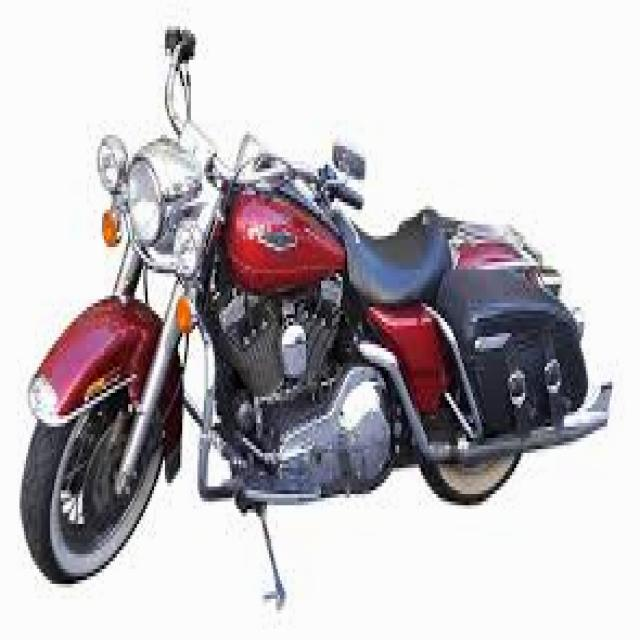MOTORCYCLE: (26, 168, 594, 628)
